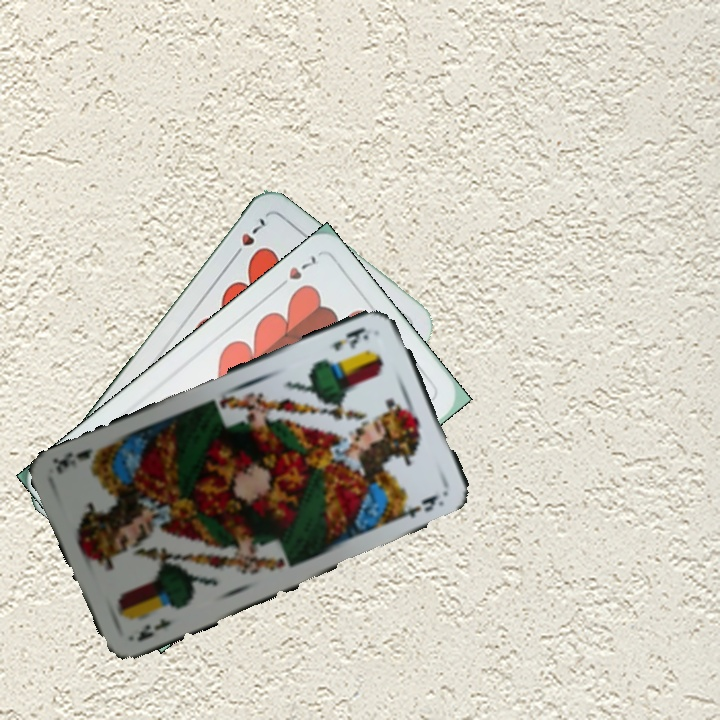EK: (329, 323, 371, 354), (133, 613, 175, 644)
H7: (271, 251, 319, 293), (228, 214, 268, 262)
